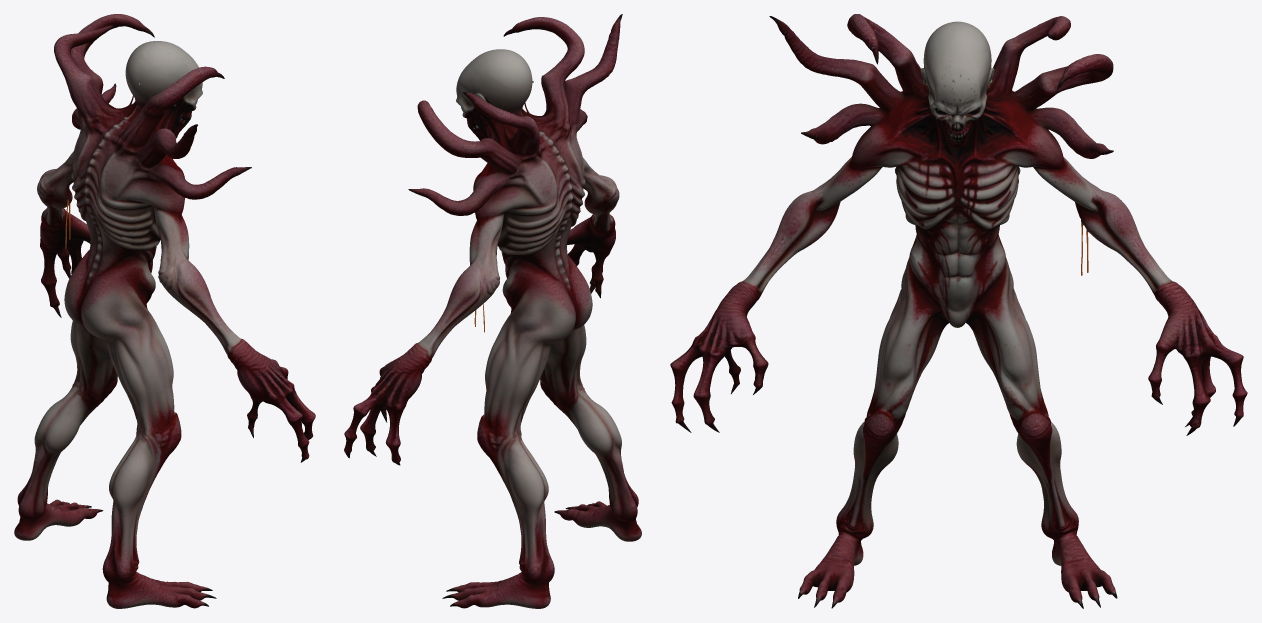
The model's file is necromorph.glb.
3 views of the same model, side by side, from view 1: azimuth 30°, elevation 25°; view 2: azimuth 150°, elevation 25°; view 3: azimuth 270°, elevation 25° (orthographic). The views are drawn at different scales.
Parts seen in each view (by area): view 1: Object_5, Object_6, Object_4, Object_7, Object_3, Object_2, Object_8; view 2: Object_7, Object_3, Object_4, Object_5, Object_6, Object_8, Object_2; view 3: Object_3, Object_6, Object_4, Object_5, Object_7, Object_8, Object_2.
Part boxes in pixels (x1,y1,x2,y2): Object_5: (81, 67, 264, 608); Object_6: (80, 42, 315, 608); Object_4: (14, 14, 202, 533); Object_7: (33, 42, 167, 469); Object_3: (37, 14, 280, 608); Object_2: (16, 15, 308, 602); Object_8: (14, 15, 154, 540); Object_7: (458, 50, 576, 527); Object_3: (344, 17, 641, 608); Object_4: (365, 105, 592, 607); Object_5: (503, 18, 639, 532); Object_6: (456, 14, 641, 541); Object_8: (418, 92, 554, 608); Object_2: (345, 20, 637, 608); Object_3: (708, 15, 1247, 608); Object_6: (670, 14, 1014, 607); Object_4: (850, 30, 1212, 607); Object_5: (720, 14, 958, 607); Object_7: (951, 26, 1097, 460); Object_8: (1016, 16, 1103, 608); Object_2: (673, 15, 1241, 586).
Size of the model in its own units: 0.2903 by 0.9987 by 0.8853.
1 material, 1 textured.
